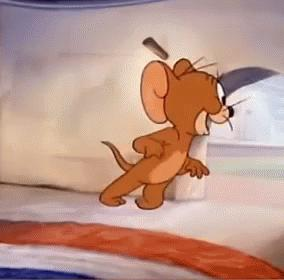jerry: (98, 58, 242, 211)
